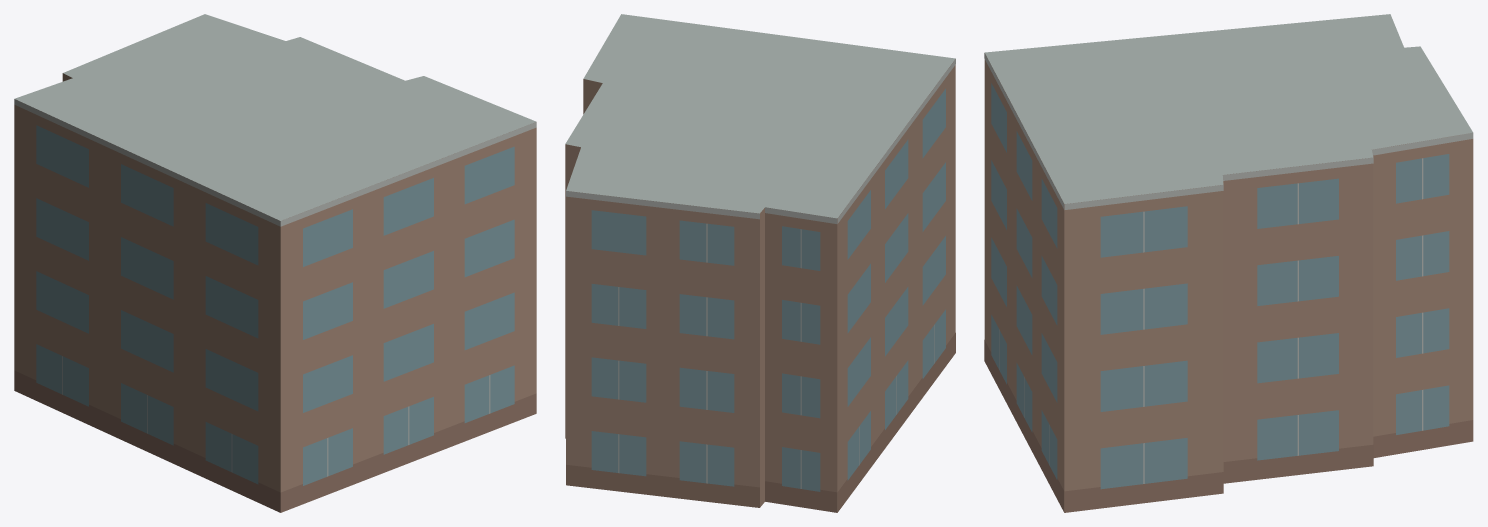
File: survey-upis-32778415.glb
The picture shows the model from 3 angles, left to right: view 1: azimuth 30°, elevation 25°; view 2: azimuth 150°, elevation 25°; view 3: azimuth 270°, elevation 25°; orthographic projection. The views are drawn at different scales.
Visible parts, largest first — view 1: survey-upis-32778415.tmp; view 2: survey-upis-32778415.tmp; view 3: survey-upis-32778415.tmp.
Boxes of the visible parts, x1,y1,x2,y2 form: survey-upis-32778415.tmp: (14, 14, 536, 512); survey-upis-32778415.tmp: (565, 14, 955, 512); survey-upis-32778415.tmp: (984, 14, 1473, 512).
Bounding box in the file's own units: 16.39 × 12.4 × 17.8.
